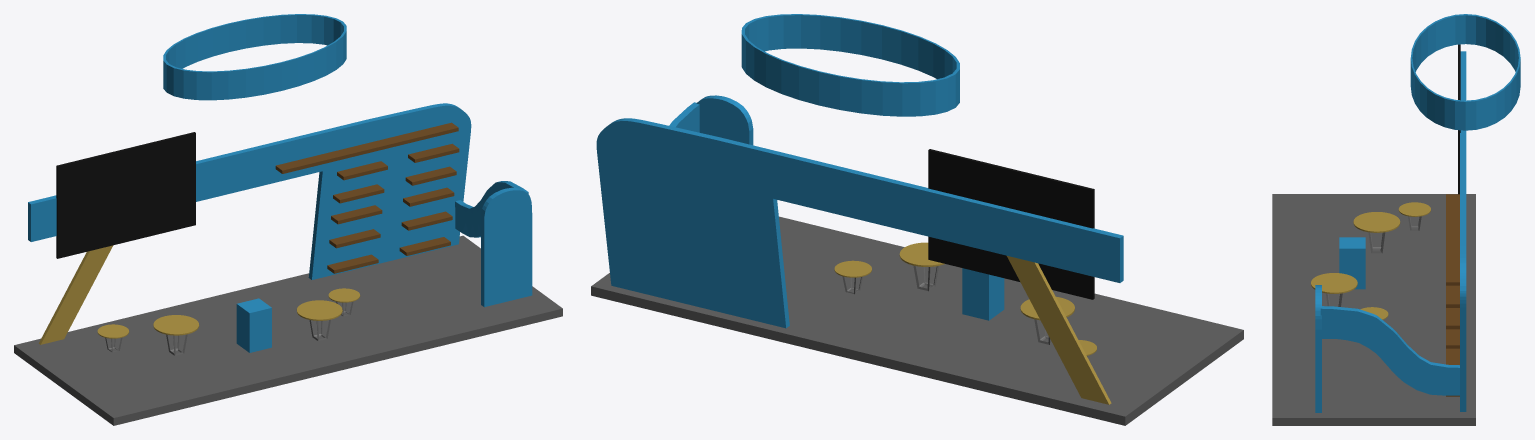
Rendered from stand remodel med.fbx.
3 renders of one model, left to right at view 1: azimuth 30°, elevation 25°; view 2: azimuth 150°, elevation 25°; view 3: azimuth 270°, elevation 25°, orthographic. The views are drawn at different scales.
Parts seen in each view (by area): view 1: base, pared., fondo pantalla med, baner superior, pared baner, pilar inclinado., estante grande.med, cubo. med, Cube, mesa 3.med, mesa 1.med, estante 8.med (+9 smaller); view 2: pared., base, baner superior, fondo pantalla med, pilar inclinado., pared baner, cubo. med, mesa 3.med; view 3: base, baner superior, Cube, pared., estante grande.med, cubo. med, pared baner, mesa 1.med, mesa 3.med, mesa 4 .med, estante 5.med, estante 4.med (+2 smaller).
Boxes of the visible parts, box(x1,y1,x2,y2) form: base: box(14, 235, 562, 425); pared.: box(28, 103, 471, 279); fondo pantalla med: box(56, 132, 195, 258); baner superior: box(163, 14, 346, 100); pared baner: box(481, 187, 532, 307); pilar inclinado.: box(39, 245, 113, 344); estante grande.med: box(275, 122, 458, 173); cubo. med: box(236, 298, 271, 352); Cube: box(455, 181, 528, 237); mesa 3.med: box(296, 300, 342, 320); mesa 1.med: box(153, 315, 199, 335); estante 8.med: box(331, 205, 382, 224); pared.: box(596, 118, 1123, 328); base: box(591, 216, 1243, 425); baner superior: box(741, 14, 959, 116); fondo pantalla med: box(928, 149, 1094, 299); pilar inclinado.: box(1007, 256, 1111, 404); pared baner: box(696, 95, 753, 145); cubo. med: box(962, 268, 1004, 320); mesa 3.med: box(899, 242, 944, 266); base: box(1272, 194, 1475, 425); baner superior: box(1410, 14, 1520, 130); Cube: box(1320, 306, 1459, 395); pared.: box(1460, 51, 1466, 411); estante grande.med: box(1446, 194, 1459, 285); cubo. med: box(1339, 237, 1365, 289); pared baner: box(1315, 285, 1321, 412); mesa 1.med: box(1353, 212, 1400, 232); mesa 3.med: box(1311, 273, 1357, 293); mesa 4 .med: box(1398, 202, 1430, 216); estante 5.med: box(1446, 285, 1459, 307); estante 4.med: box(1446, 308, 1459, 329).
Bounding box in the file's own units: 16.84 × 9.17 × 7.89.
